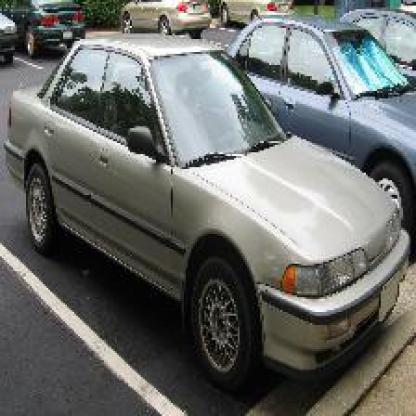not_emergency: (2, 26, 397, 379)
